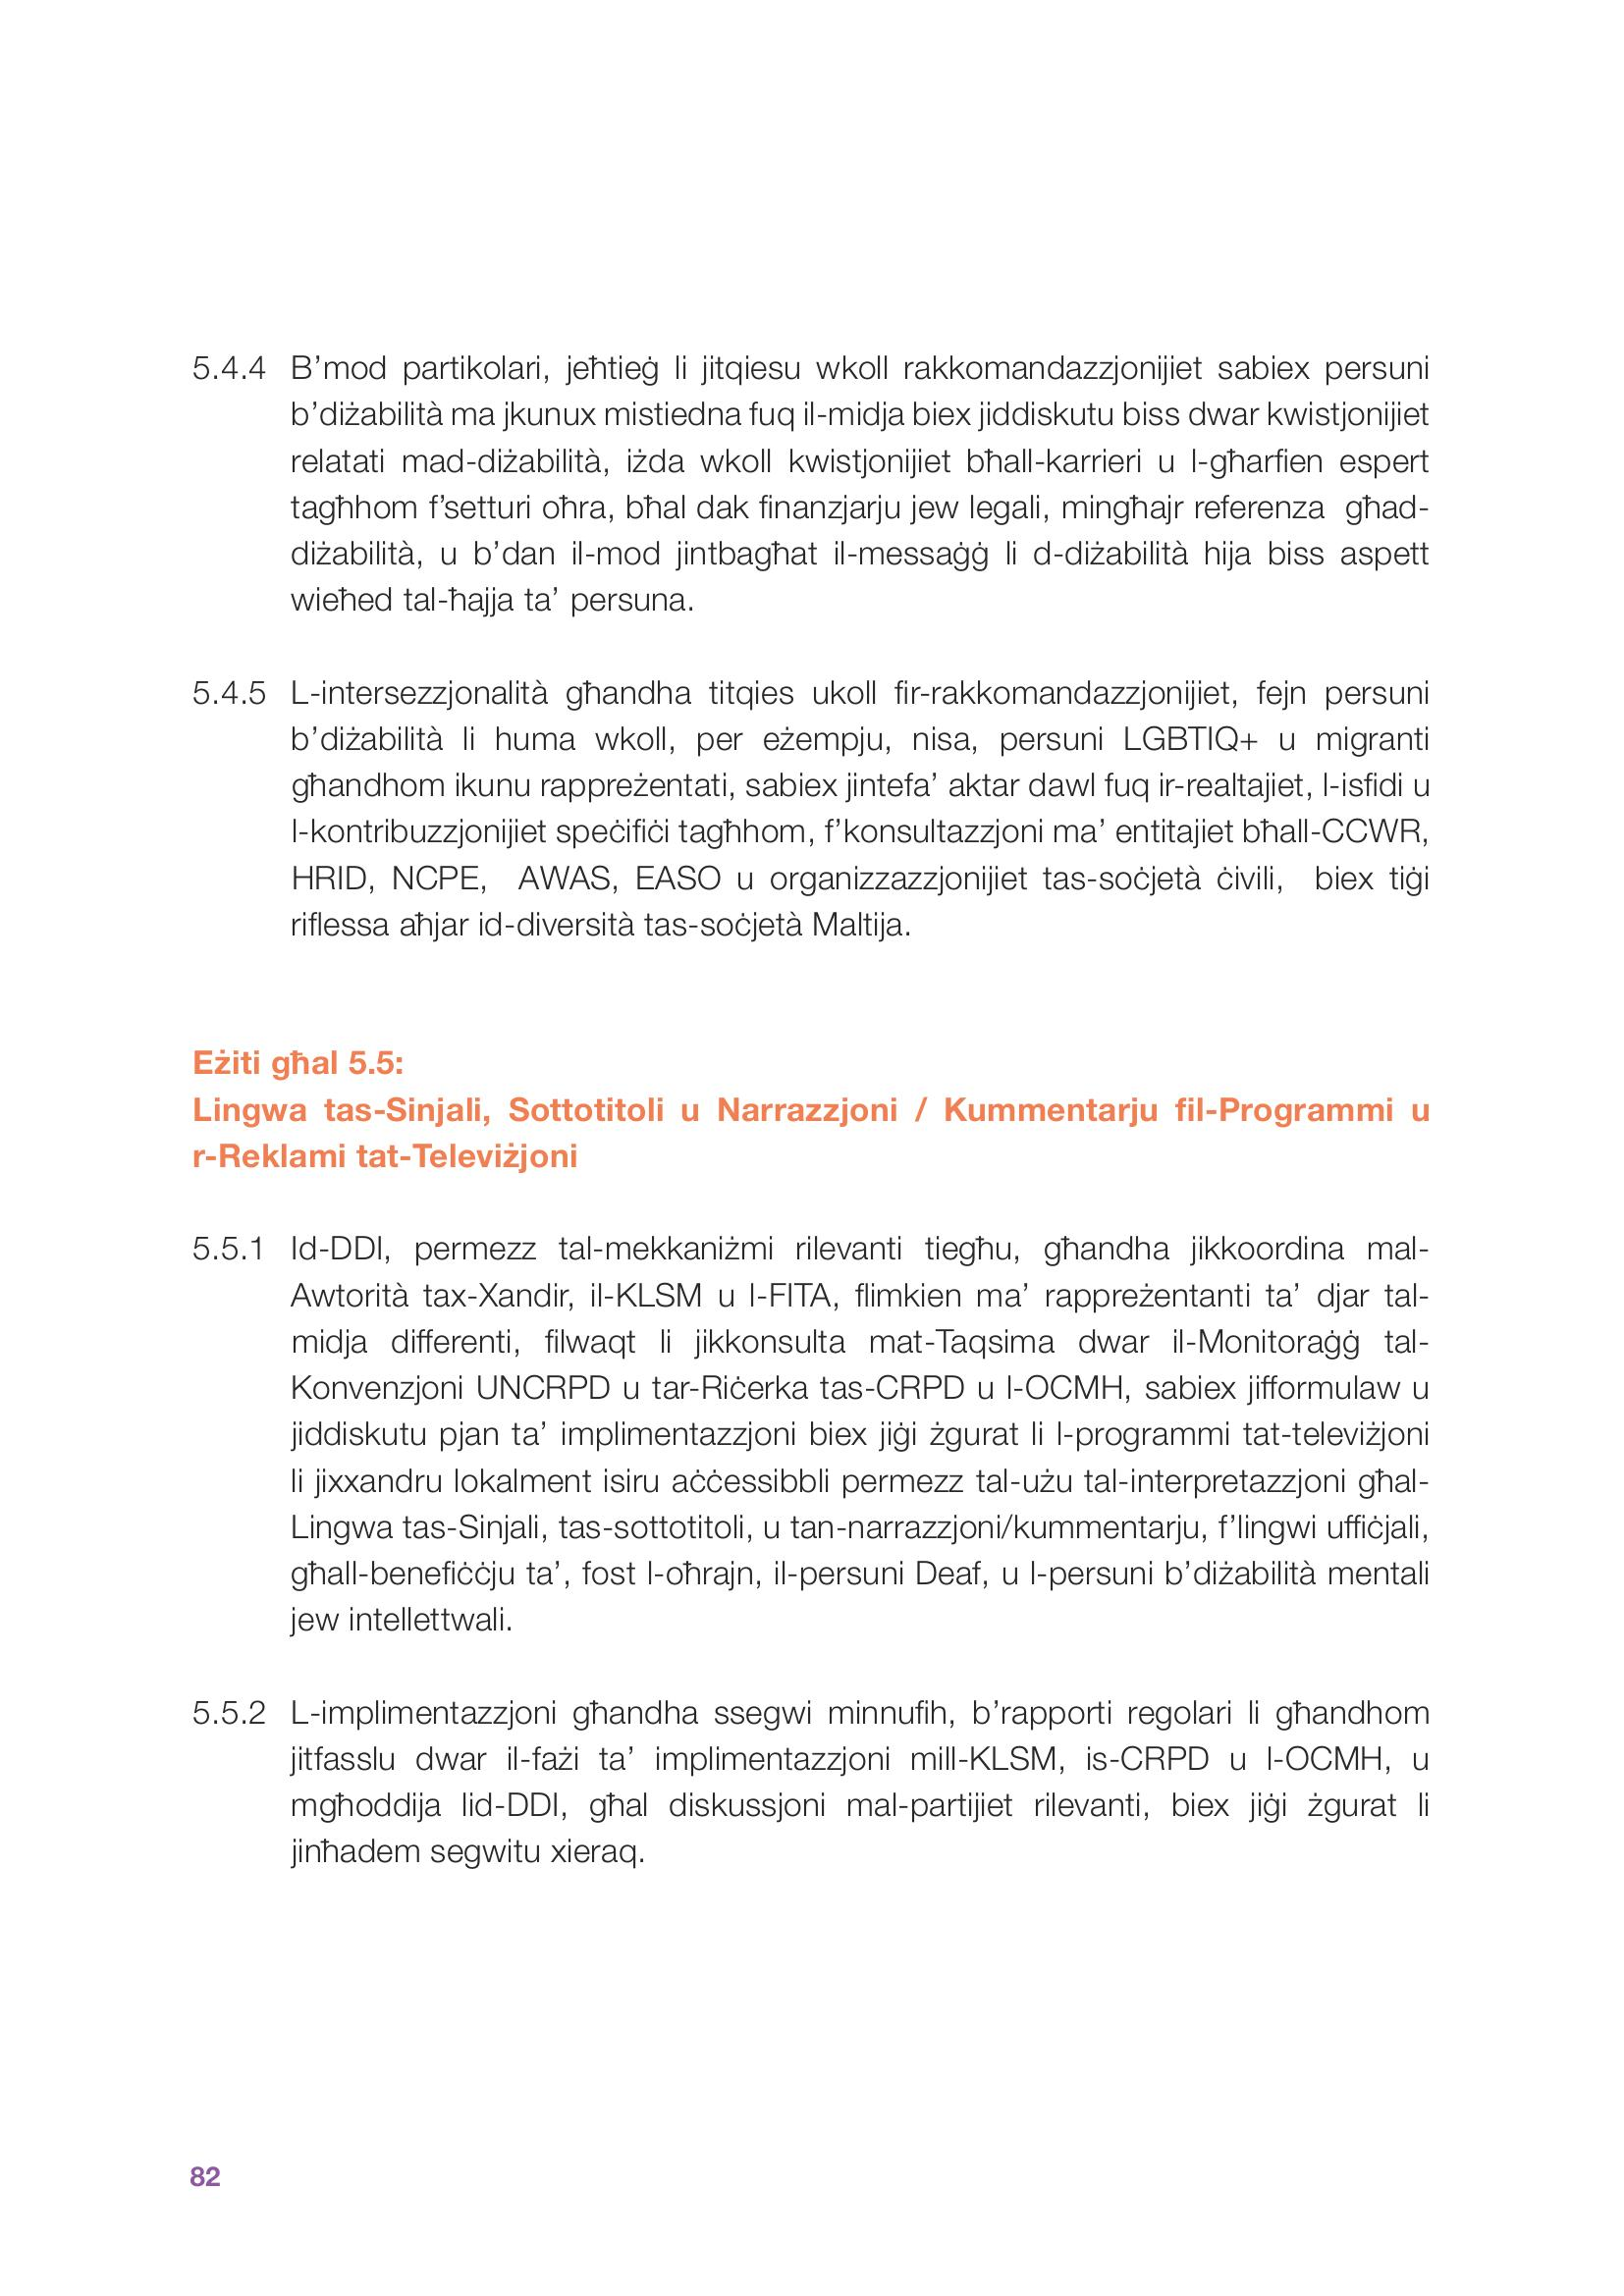text: (146, 316, 1469, 1917)
